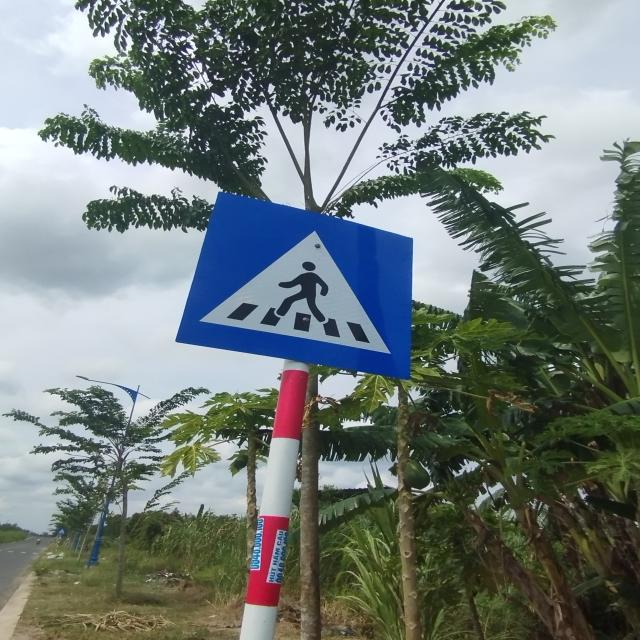Giao_Nhau_Duong_Uu_Tien: (178, 192, 412, 382)
